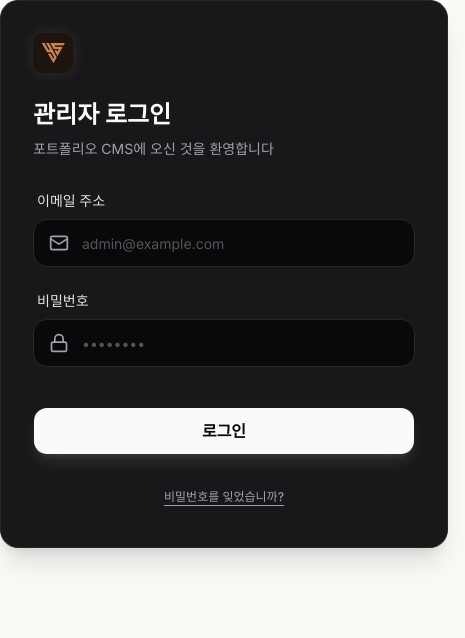
Scenario: AdminLoginForm › 잘못된 이메일 형식 입력 시 Zod 유효성 에러 메시지를 표시해야 한다
In the field with placeholder "admin@example.com": (224, 243) [33,219,415,267], type "invalid-email-format"
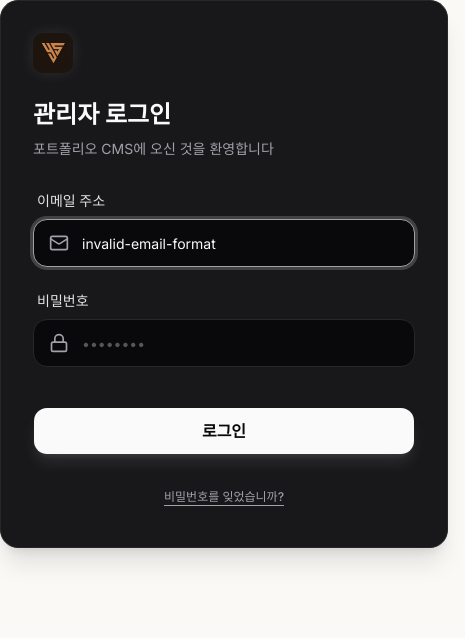
Click the button "로그인": (224, 431) [33,407,415,455]
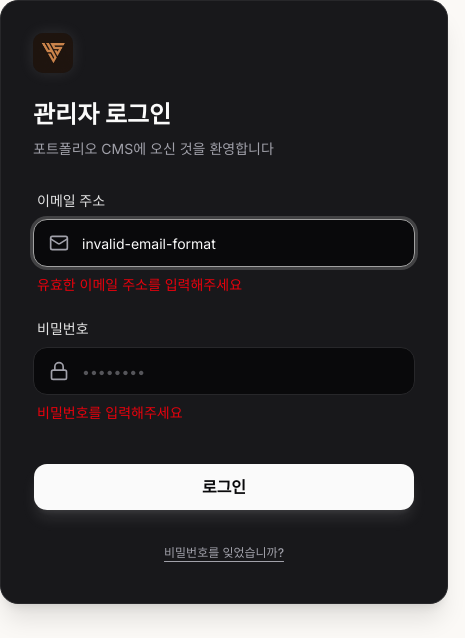
Now the text "유효한 이메일 주소를 입력해주세요" is shown, box [37,276,242,293]
